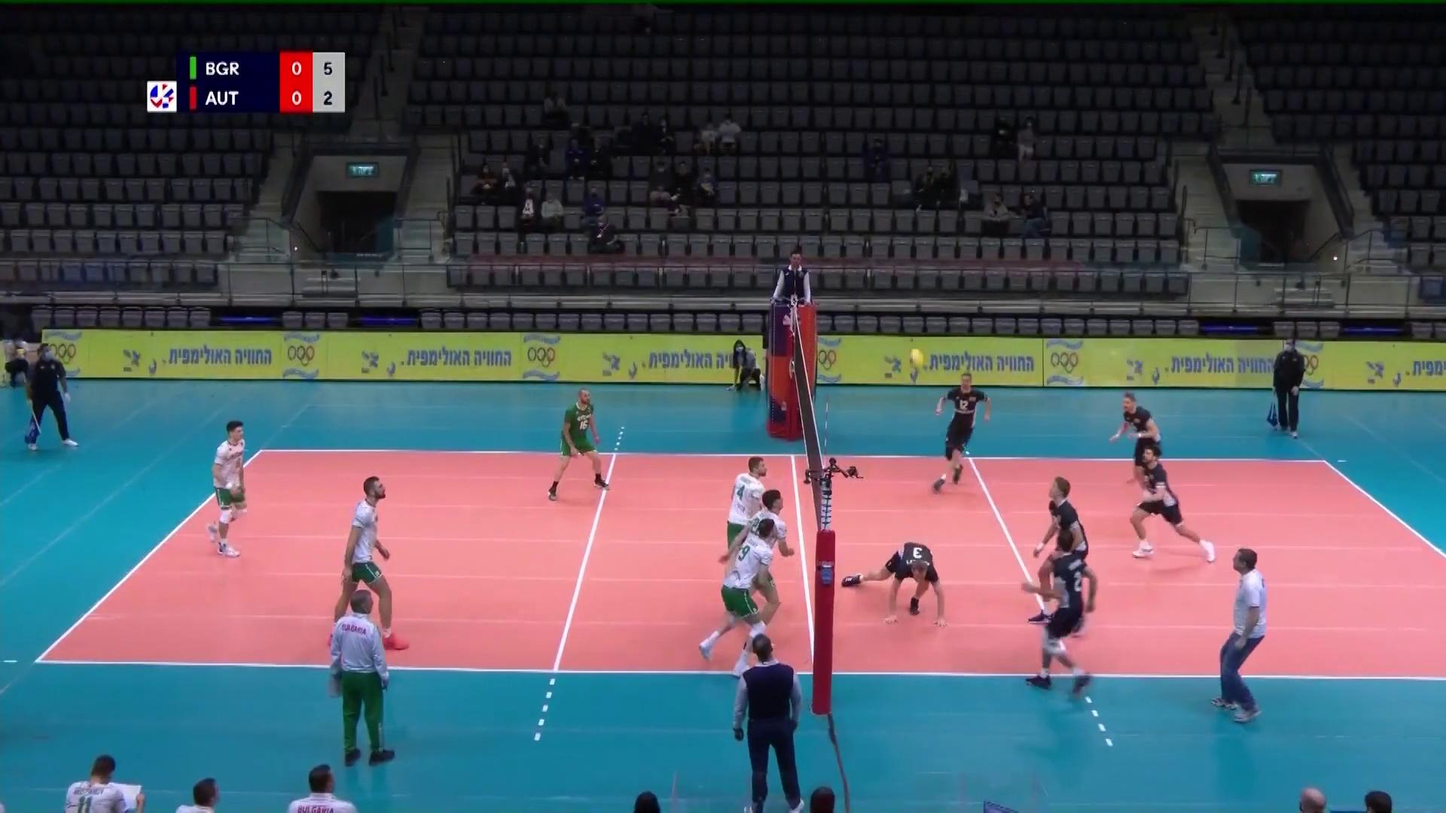ball: (910, 347, 926, 370)
